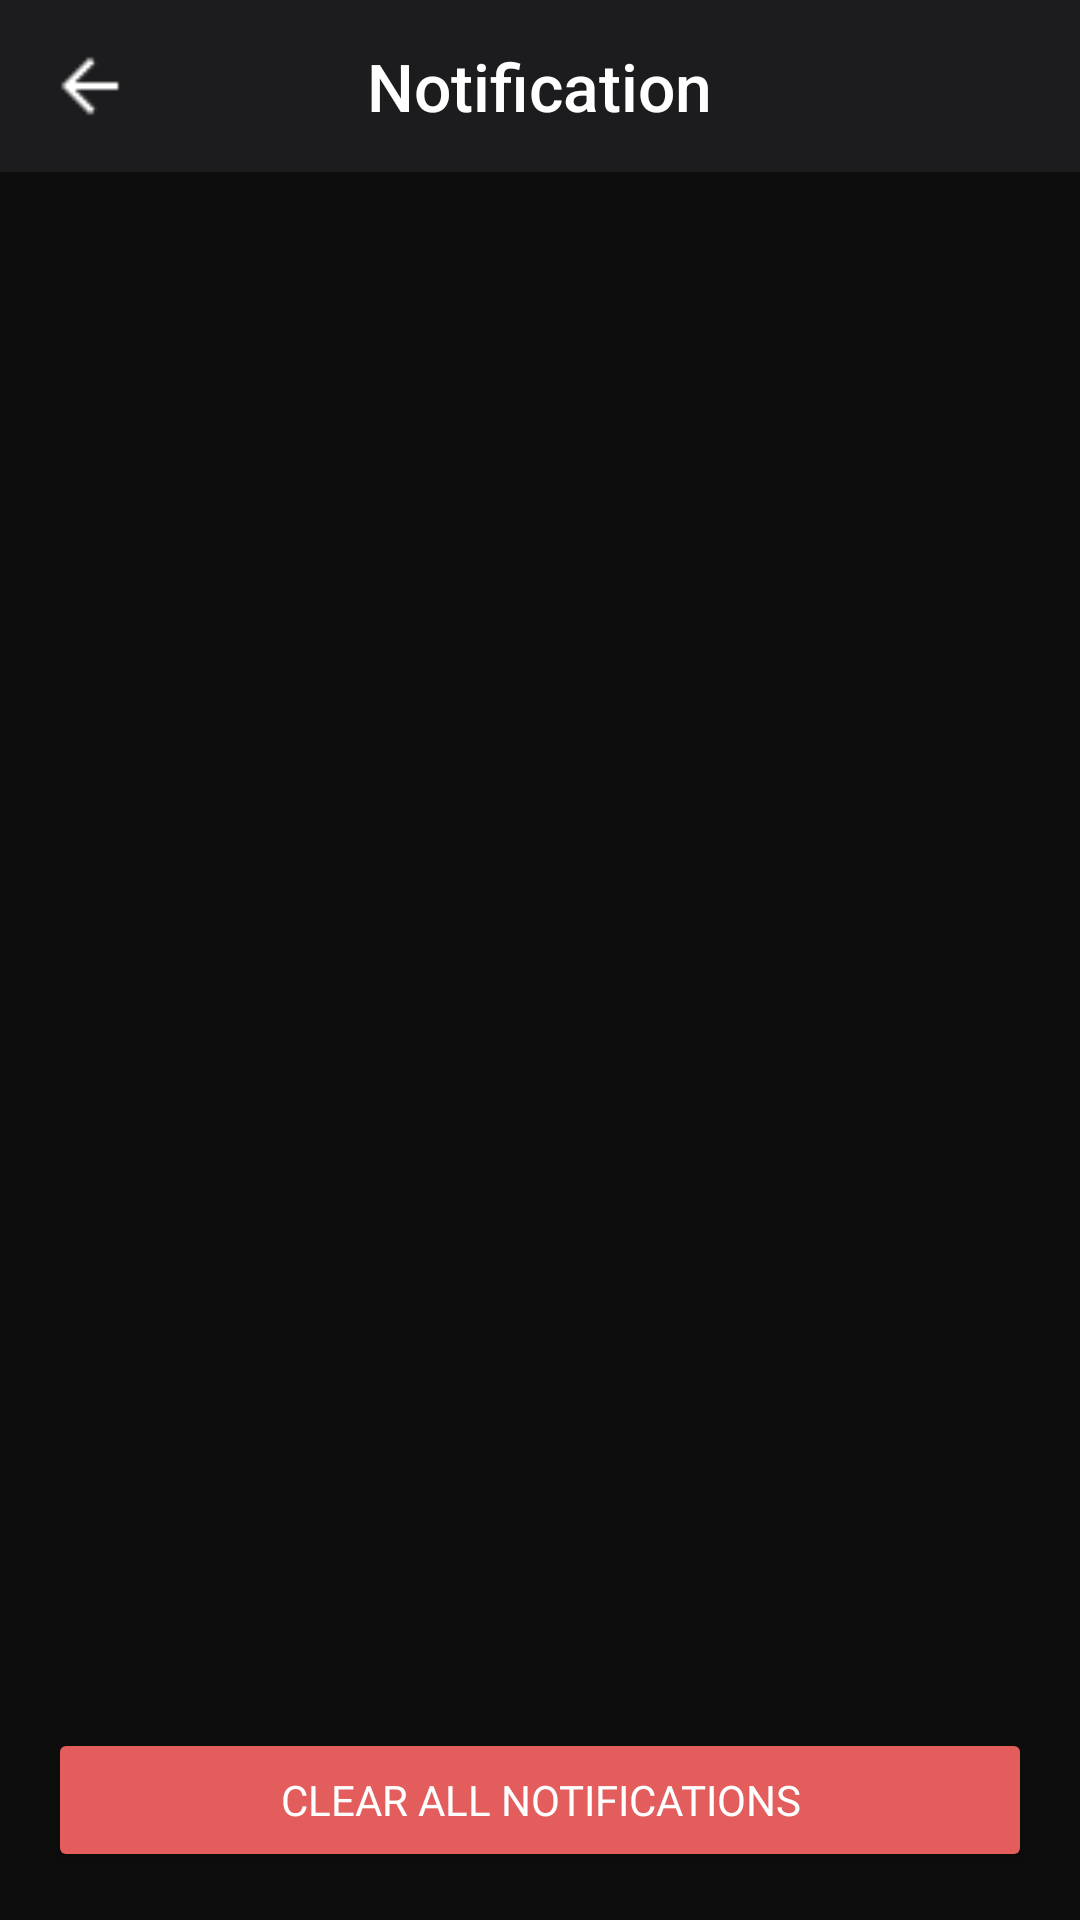

Where to tap for icons on this 1080px x 1920px app screen, as [x,y]:
Back: [90,86]
